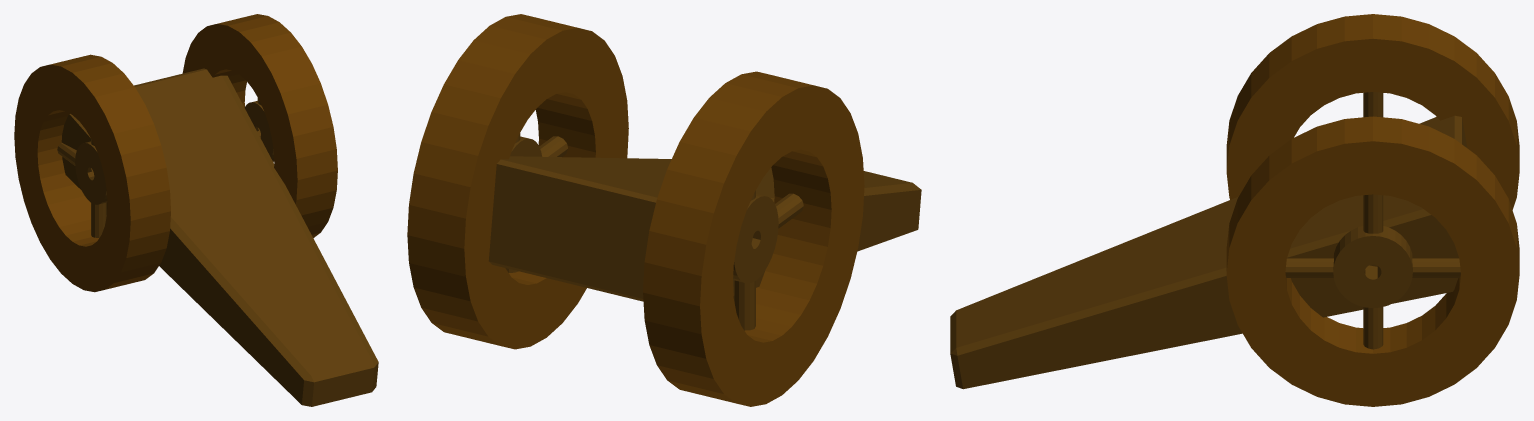
Rendered from _annonBase.fbx.
The picture shows the model from 3 angles, left to right: view 1: azimuth 30°, elevation 25°; view 2: azimuth 150°, elevation 25°; view 3: azimuth 270°, elevation 25°; orthographic projection. The views are drawn at different scales.
Visible parts, largest first — view 1: Base, WheelLeft, WheelRight, Circle.002, Circle.001, Cylinder.007; view 2: WheelLeft, WheelRight, Base, Circle.002, Cylinder.007, Cylinder.005, Circle.001, Cylinder.001; view 3: WheelRight, Base, WheelLeft, Circle.001, Cylinder.001, Cylinder, Cylinder.003, Cylinder.002, Cylinder.006.
Part boxes in pixels (x1,y1,x2,y2): Base: (61, 68, 378, 406); WheelLeft: (14, 54, 170, 292); WheelRight: (182, 14, 337, 237); Circle.002: (75, 141, 107, 204); Circle.001: (244, 101, 274, 161); Cylinder.007: (91, 202, 106, 237); WheelLeft: (643, 71, 864, 406); WheelRight: (407, 14, 628, 349); Base: (488, 156, 921, 301); Circle.002: (733, 194, 778, 283); Cylinder.007: (733, 280, 755, 330); Cylinder.005: (775, 193, 803, 228); Circle.001: (510, 136, 541, 156); Cylinder.001: (539, 136, 567, 156); WheelRight: (1226, 116, 1519, 406); Base: (950, 115, 1467, 389); WheelLeft: (1226, 14, 1519, 209); Circle.001: (1333, 226, 1412, 308); Cylinder.001: (1285, 258, 1333, 277); Cylinder: (1412, 258, 1460, 277); Cylinder.003: (1363, 307, 1383, 349); Cylinder.002: (1363, 194, 1383, 233); Cylinder.006: (1363, 92, 1383, 117).
Bounding box in the file's own units: 257 × 275 × 486.
